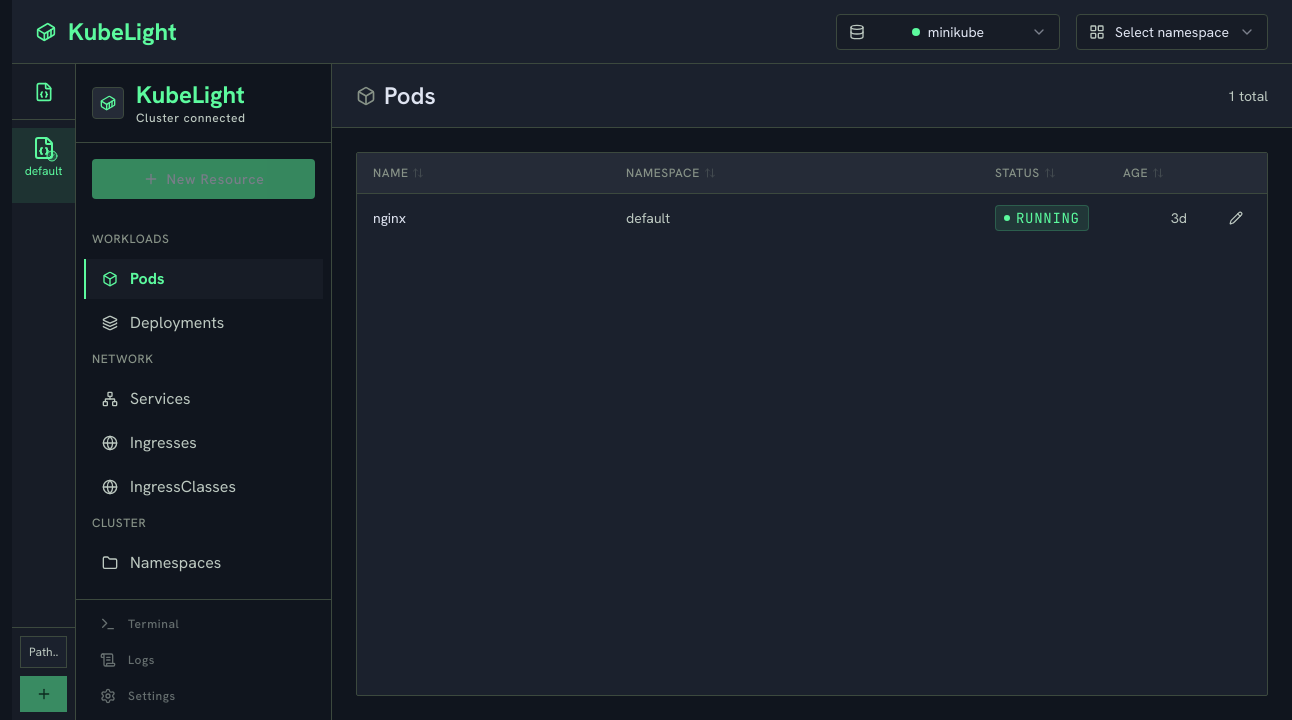
App routing › navigates between resource kinds via the sidebar
Expected: the heading "Pods" is shown, x1=384 y1=80 x2=436 y2=112
Click the button "Deployments" at coordinates (204, 323), box x1=84 y1=303 x2=323 y2=343
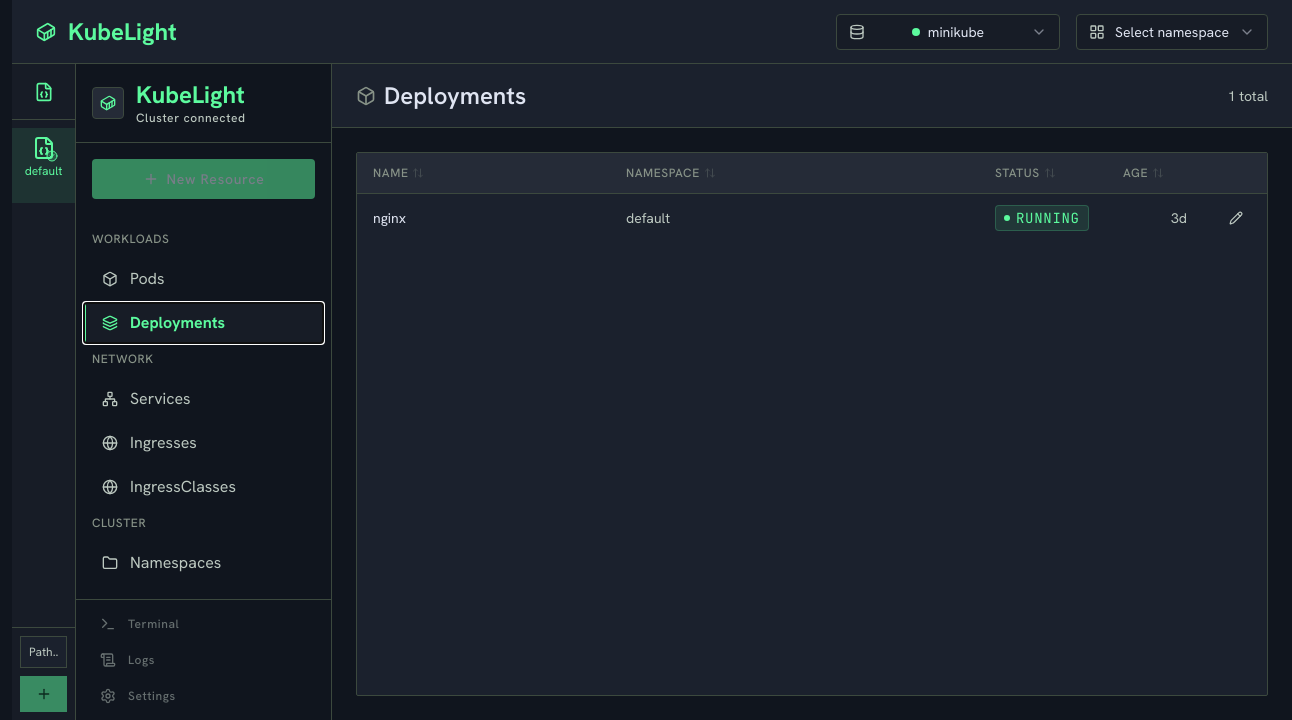
Expected: the heading "Deployments" is shown, x1=384 y1=80 x2=526 y2=112
Click the button "Services" at coordinates (204, 399), box x1=84 y1=379 x2=323 y2=419
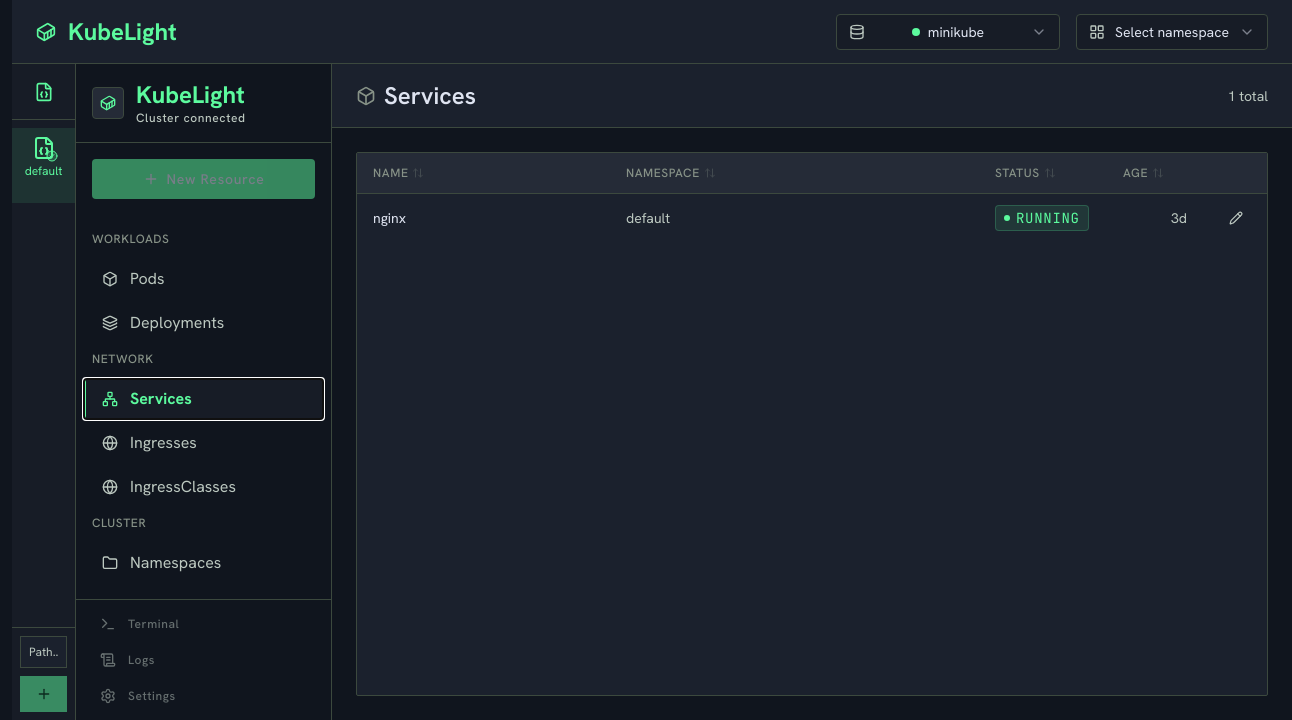
Expected: the heading "Services" is shown, x1=384 y1=80 x2=476 y2=112
